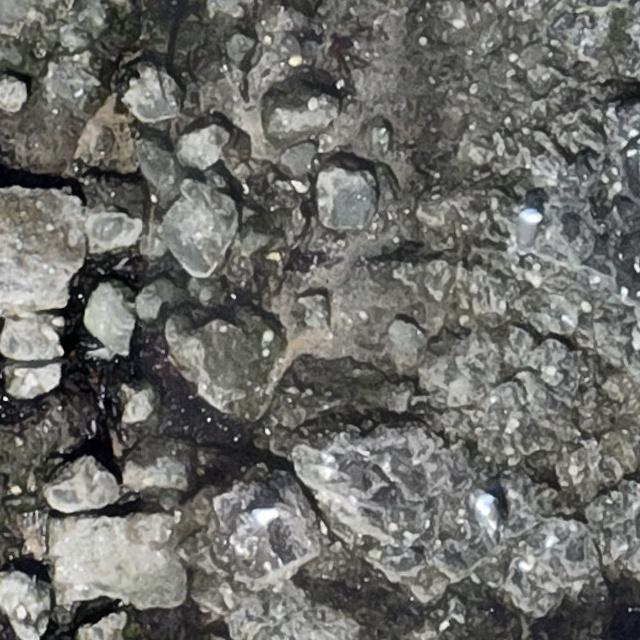umineko: (473, 491, 499, 538), (516, 209, 538, 250)
